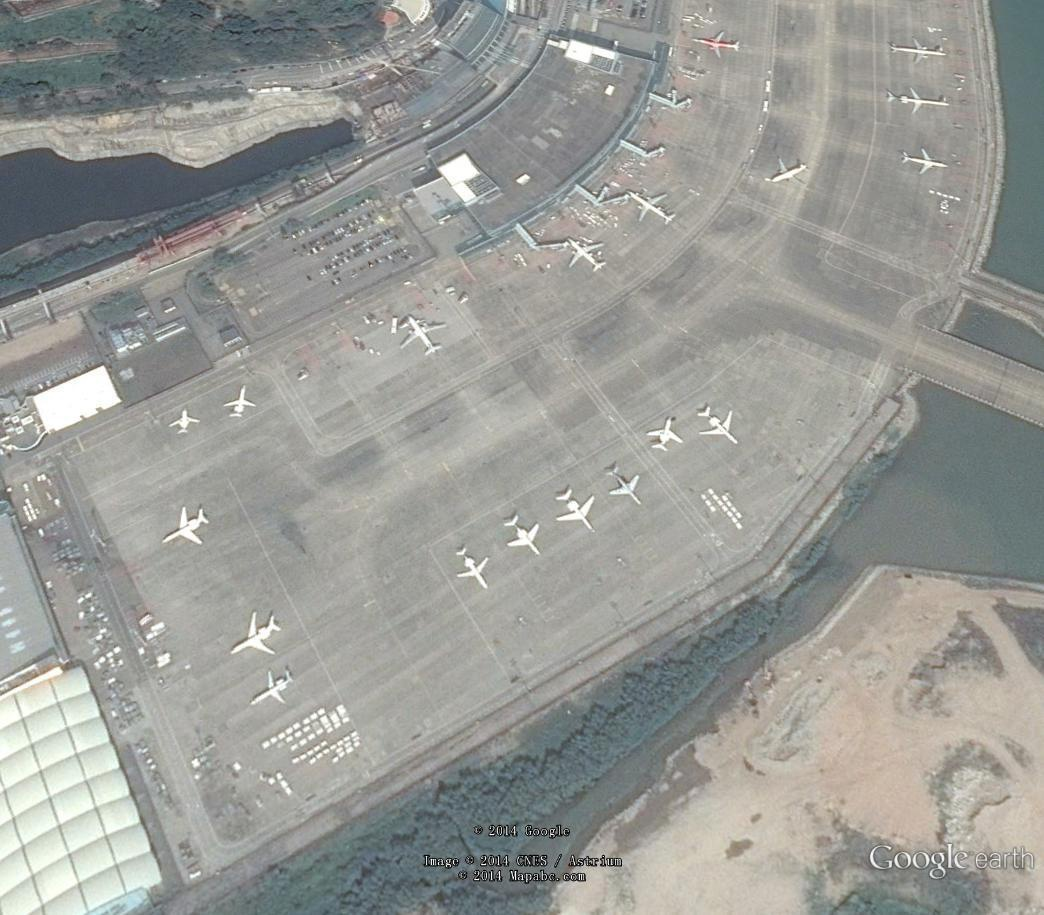aircraft: (394, 309, 457, 363), (553, 480, 603, 547), (690, 400, 750, 454), (226, 609, 286, 660), (625, 184, 684, 235), (885, 30, 952, 73), (247, 667, 304, 714), (153, 504, 211, 550), (600, 454, 643, 513), (450, 541, 492, 601), (882, 84, 954, 118), (640, 411, 687, 462), (559, 232, 613, 276), (501, 511, 546, 562), (898, 139, 955, 177), (769, 153, 816, 199), (157, 402, 205, 441), (210, 384, 259, 421), (697, 27, 744, 61)
